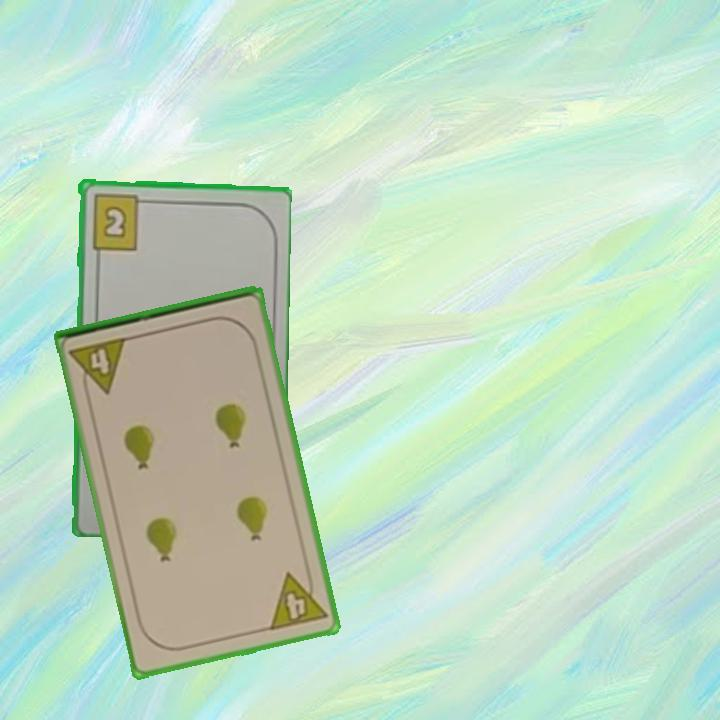2b: (88, 190, 150, 252)
4p: (266, 565, 330, 634), (66, 333, 130, 400)
